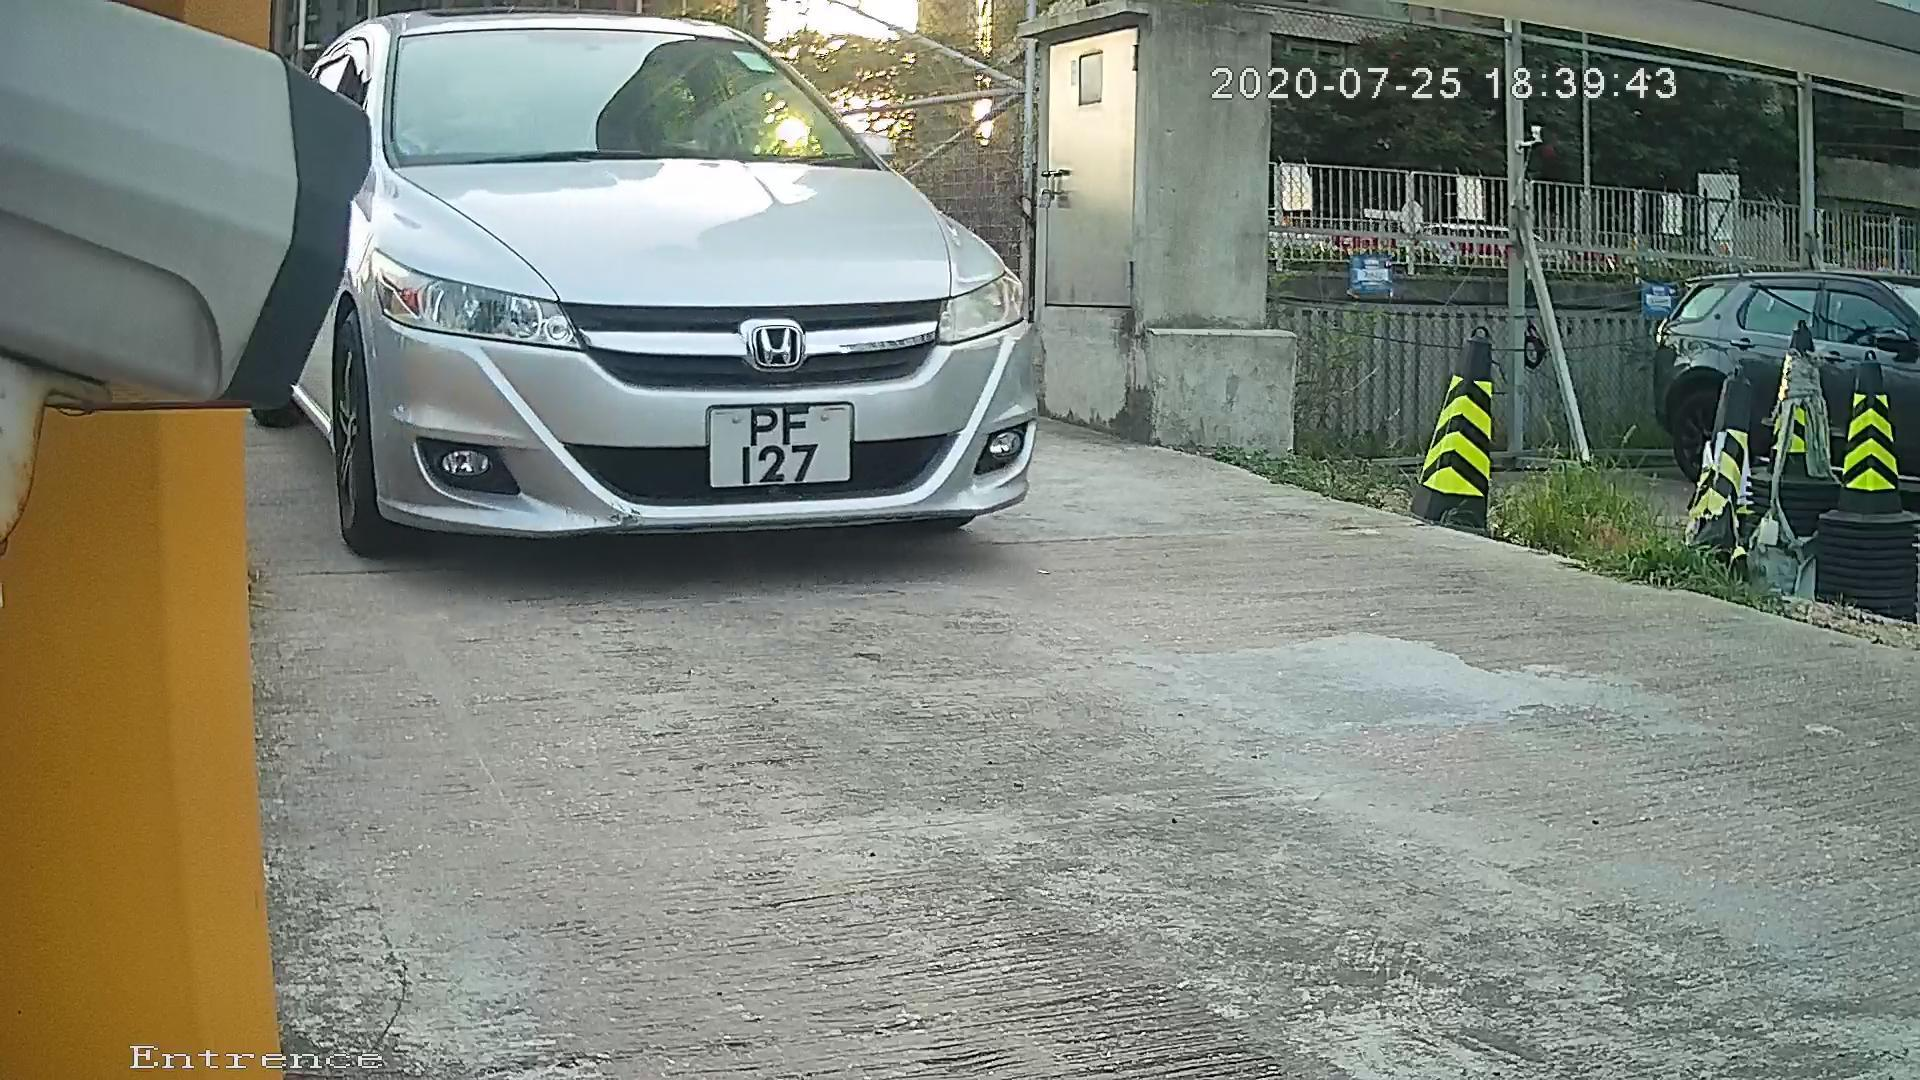privatecar: (198, 5, 1244, 593)
